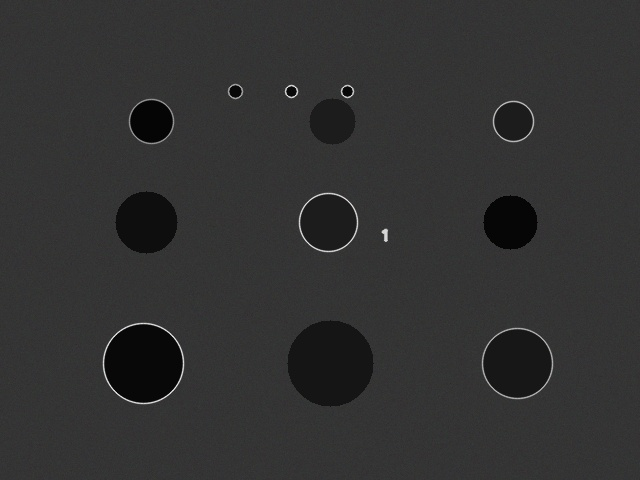hole: (287, 320, 373, 406), (103, 323, 183, 403), (482, 328, 552, 398), (115, 191, 177, 253), (299, 193, 357, 251), (483, 195, 537, 249), (309, 98, 355, 144), (129, 99, 173, 143), (493, 101, 533, 141), (228, 84, 242, 98), (285, 85, 297, 97), (341, 85, 353, 97)
